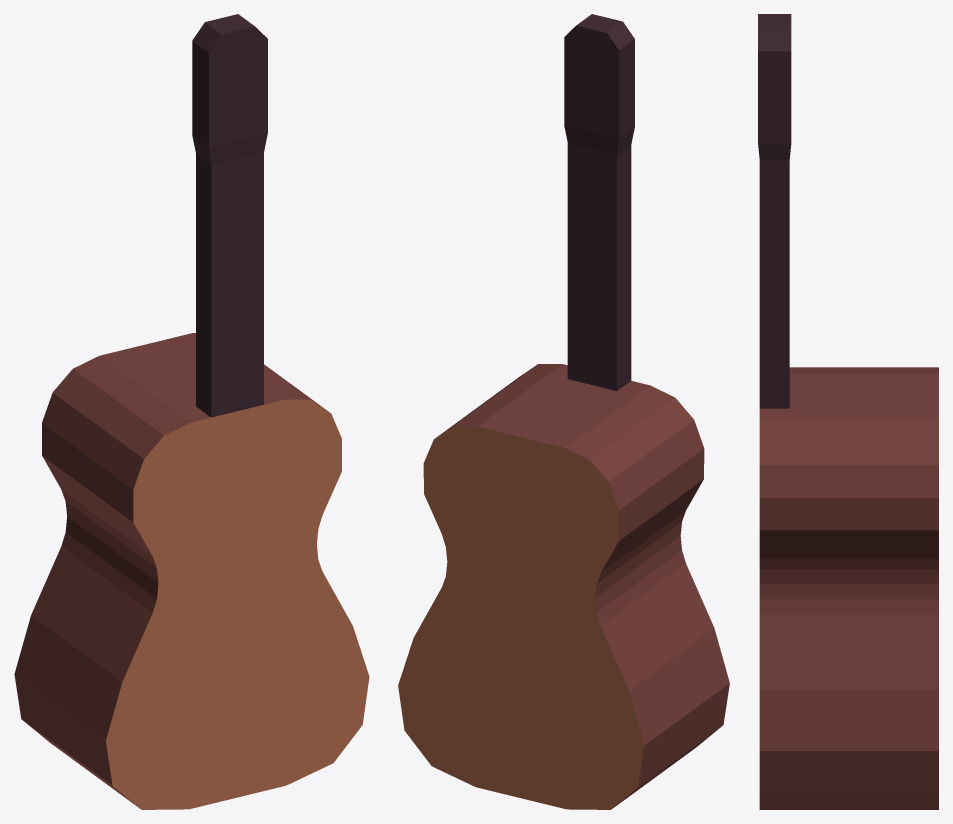
Rendered from Guitarra.fbx.
3 views of the same model, side by side, from view 1: azimuth 30°, elevation 25°; view 2: azimuth 150°, elevation 25°; view 3: azimuth 270°, elevation 25° (orthographic). The views are drawn at different scales.
Visible parts, largest first — view 1: Cube; view 2: Cube; view 3: Cube.
Boxes of the visible parts, box(x1,y1,x2,y2) form: Cube: box(14, 14, 369, 809); Cube: box(398, 14, 729, 809); Cube: box(758, 14, 938, 809).
Bounding box in the file's own units: 50 × 139 × 30.29.
Materials: 1 (1 with a texture image).
